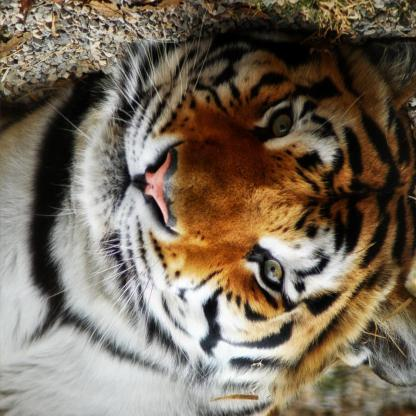tiger: (94, 0, 415, 400)
